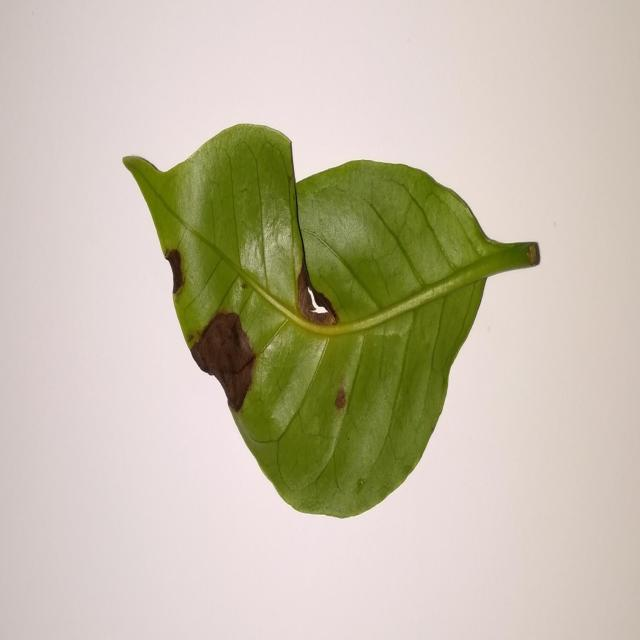Enfermedad-Antracnosis: (121, 124, 541, 522)
